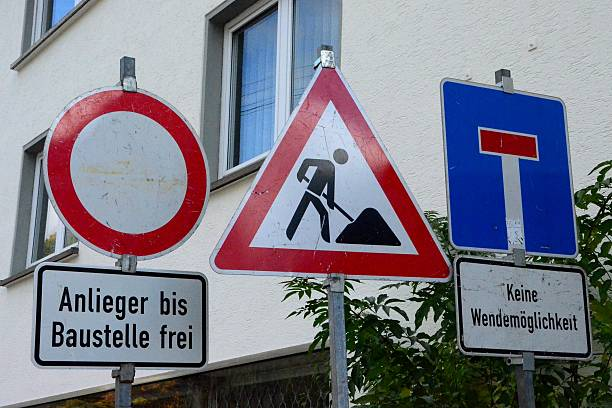yol_calismasi_levha: (210, 68, 455, 285)
